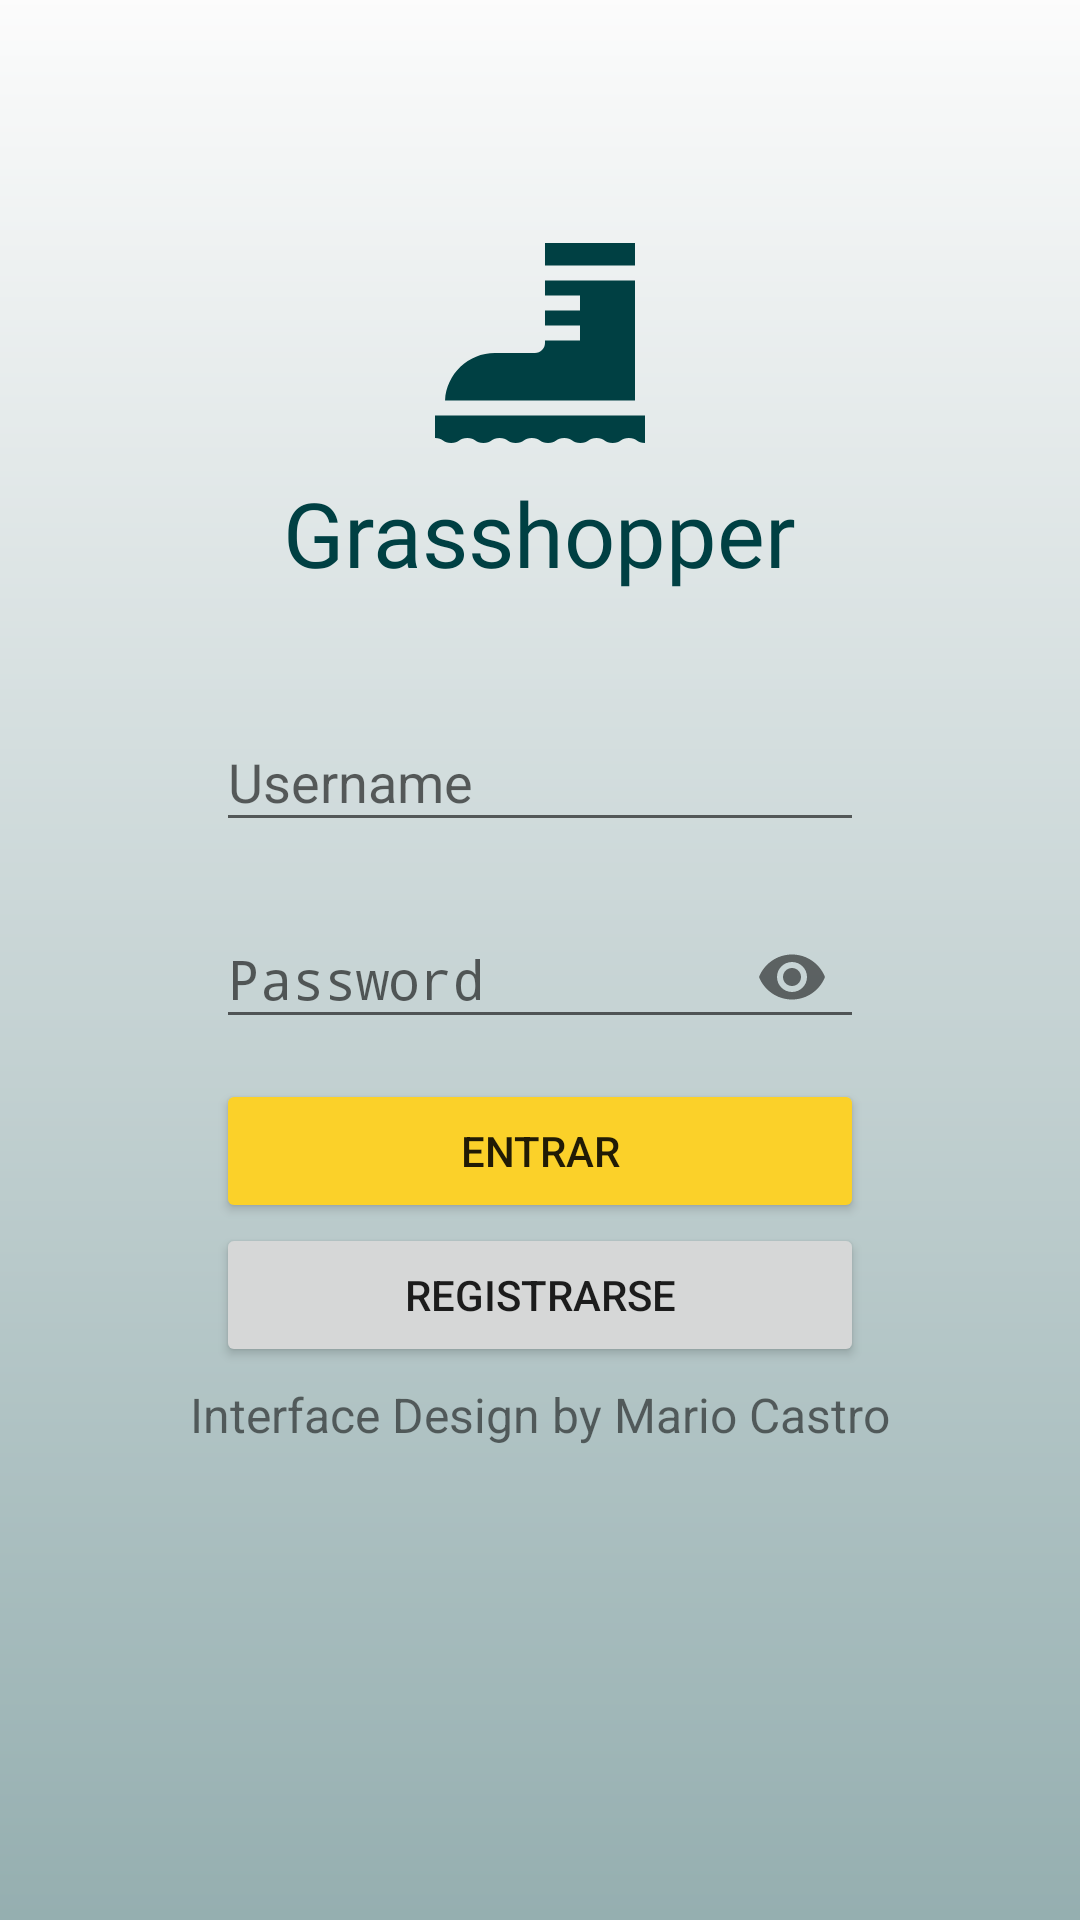

Icon bounding boxes for this 1080 x 1920 phone screenshot, format (x1, y1, x2, y2):
boot: (435, 243, 645, 443)
